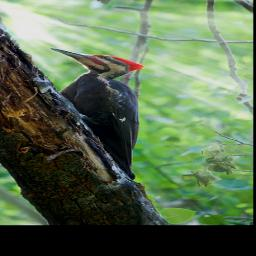Woodpecker: (47, 47, 147, 181)
